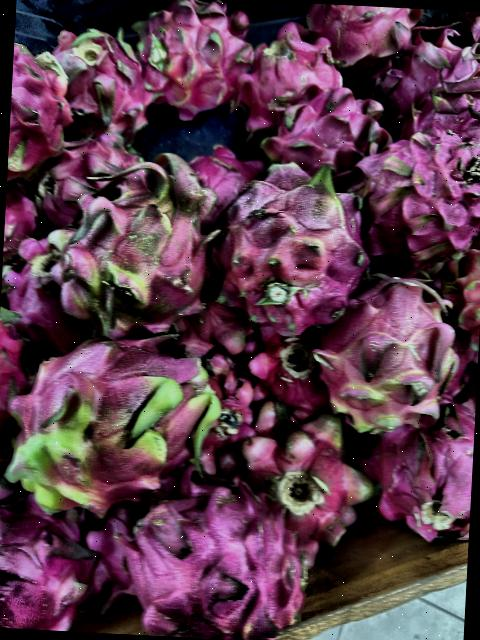buah-naga-belum-matang: (0, 332, 225, 519), (31, 148, 222, 328), (212, 150, 366, 324), (314, 272, 454, 439)
buah-naga-matang: (113, 494, 317, 640), (227, 414, 384, 544), (352, 126, 480, 259), (356, 390, 476, 528), (255, 85, 390, 187), (130, 0, 256, 103), (42, 28, 160, 136), (0, 502, 85, 630), (241, 28, 349, 118), (8, 38, 70, 170), (237, 320, 326, 410), (376, 24, 456, 110), (308, 3, 414, 62), (409, 74, 480, 152)
